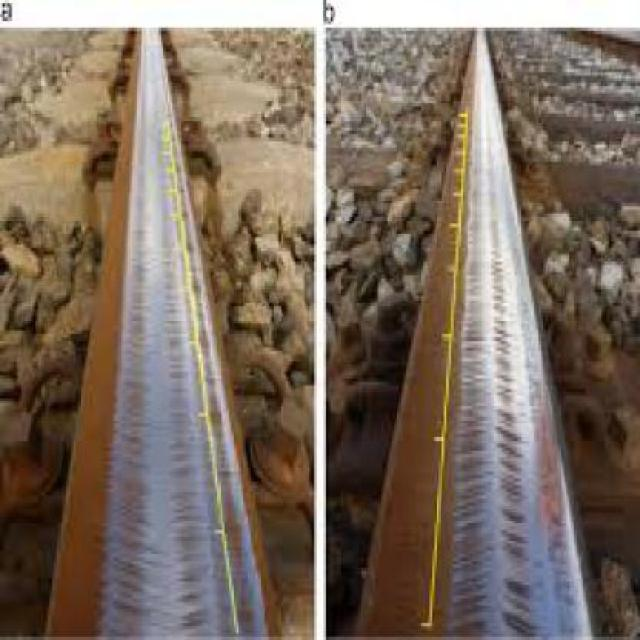defective: (53, 4, 613, 640)
